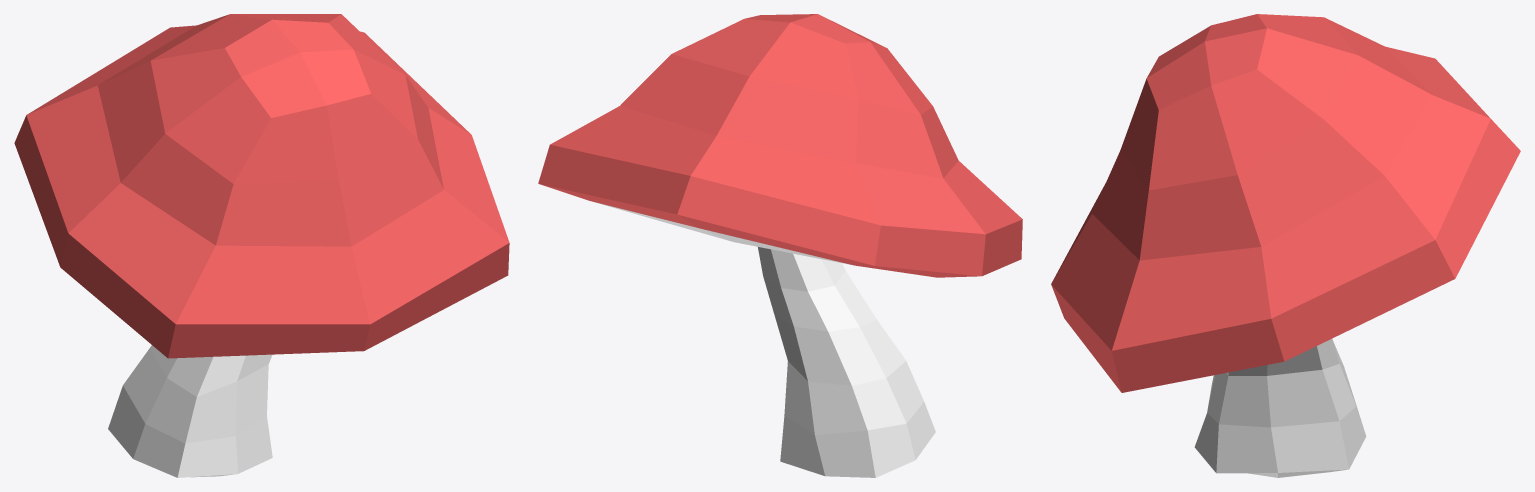
The model's file is mushroom.glb.
3 views of the same model, side by side, from view 1: azimuth 30°, elevation 25°; view 2: azimuth 150°, elevation 25°; view 3: azimuth 270°, elevation 25° (orthographic). The views are drawn at different scales.
Visible parts, largest first — view 1: Cube.001; view 2: Cube.001; view 3: Cube.001.
Boxes of the visible parts, x1,y1,x2,y2 form: Cube.001: (14, 14, 509, 477); Cube.001: (538, 14, 1022, 477); Cube.001: (1051, 14, 1520, 477).
Bounding box in the file's own units: 8.29 × 8.35 × 7.53.
